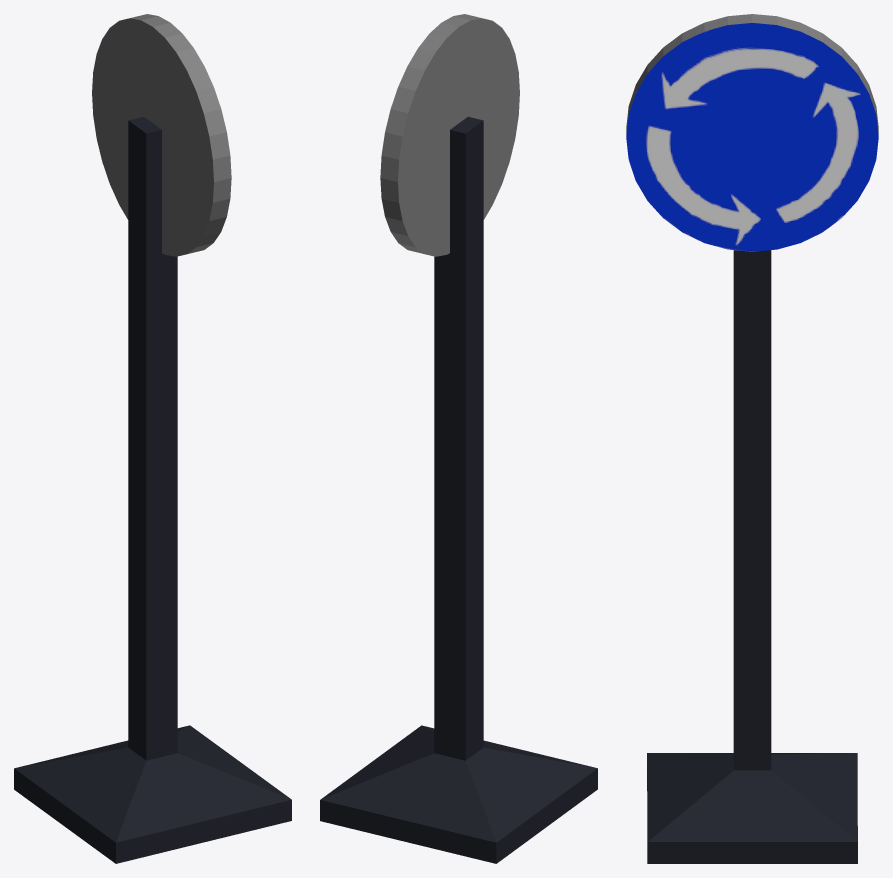
File: roundabout.obj
3 views of the same model, side by side, from view 1: azimuth 30°, elevation 25°; view 2: azimuth 150°, elevation 25°; view 3: azimuth 270°, elevation 25° (orthographic). The views are drawn at different scales.
Parts seen in each view (by area): view 1: beam, Cylinder; view 2: beam, Cylinder; view 3: Cylinder, beam.
Boxes of the visible parts, x1,y1,x2,y2 form: beam: (14,116,291,863); Cylinder: (92,14,231,256); beam: (320,116,597,863); Cylinder: (380,14,519,256); Cylinder: (626,14,878,251); beam: (647,250,857,863).
Bounding box in the file's own units: 0.0501 × 0.2111 × 0.06.
2 materials, 1 textured.
